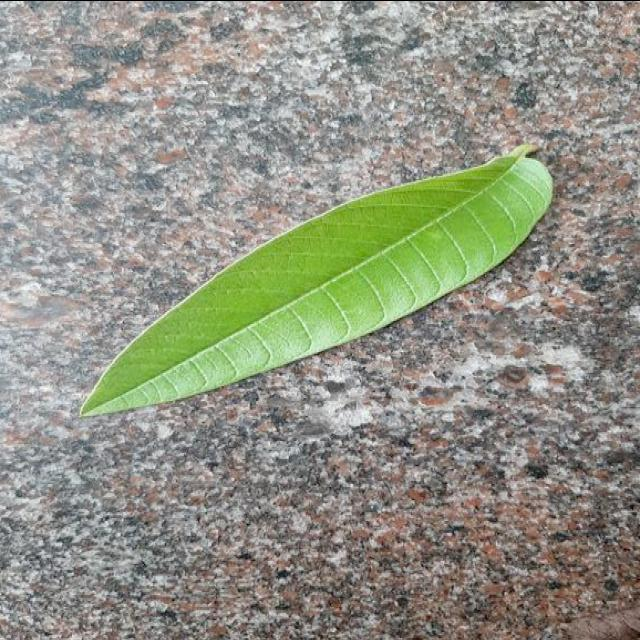leaf: (78, 141, 554, 418)
